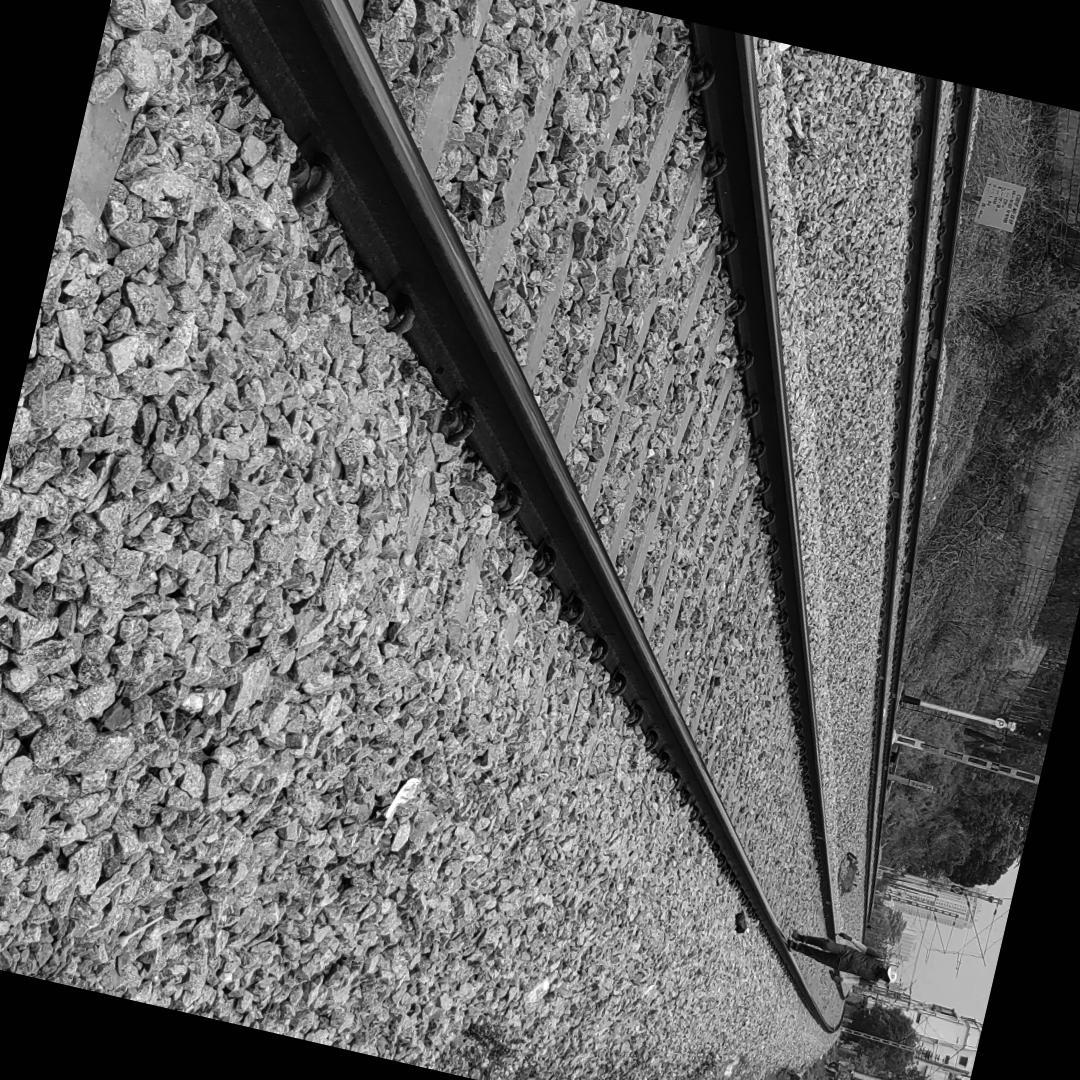standing: (786, 927, 898, 989)
track: (194, 0, 860, 1043)
